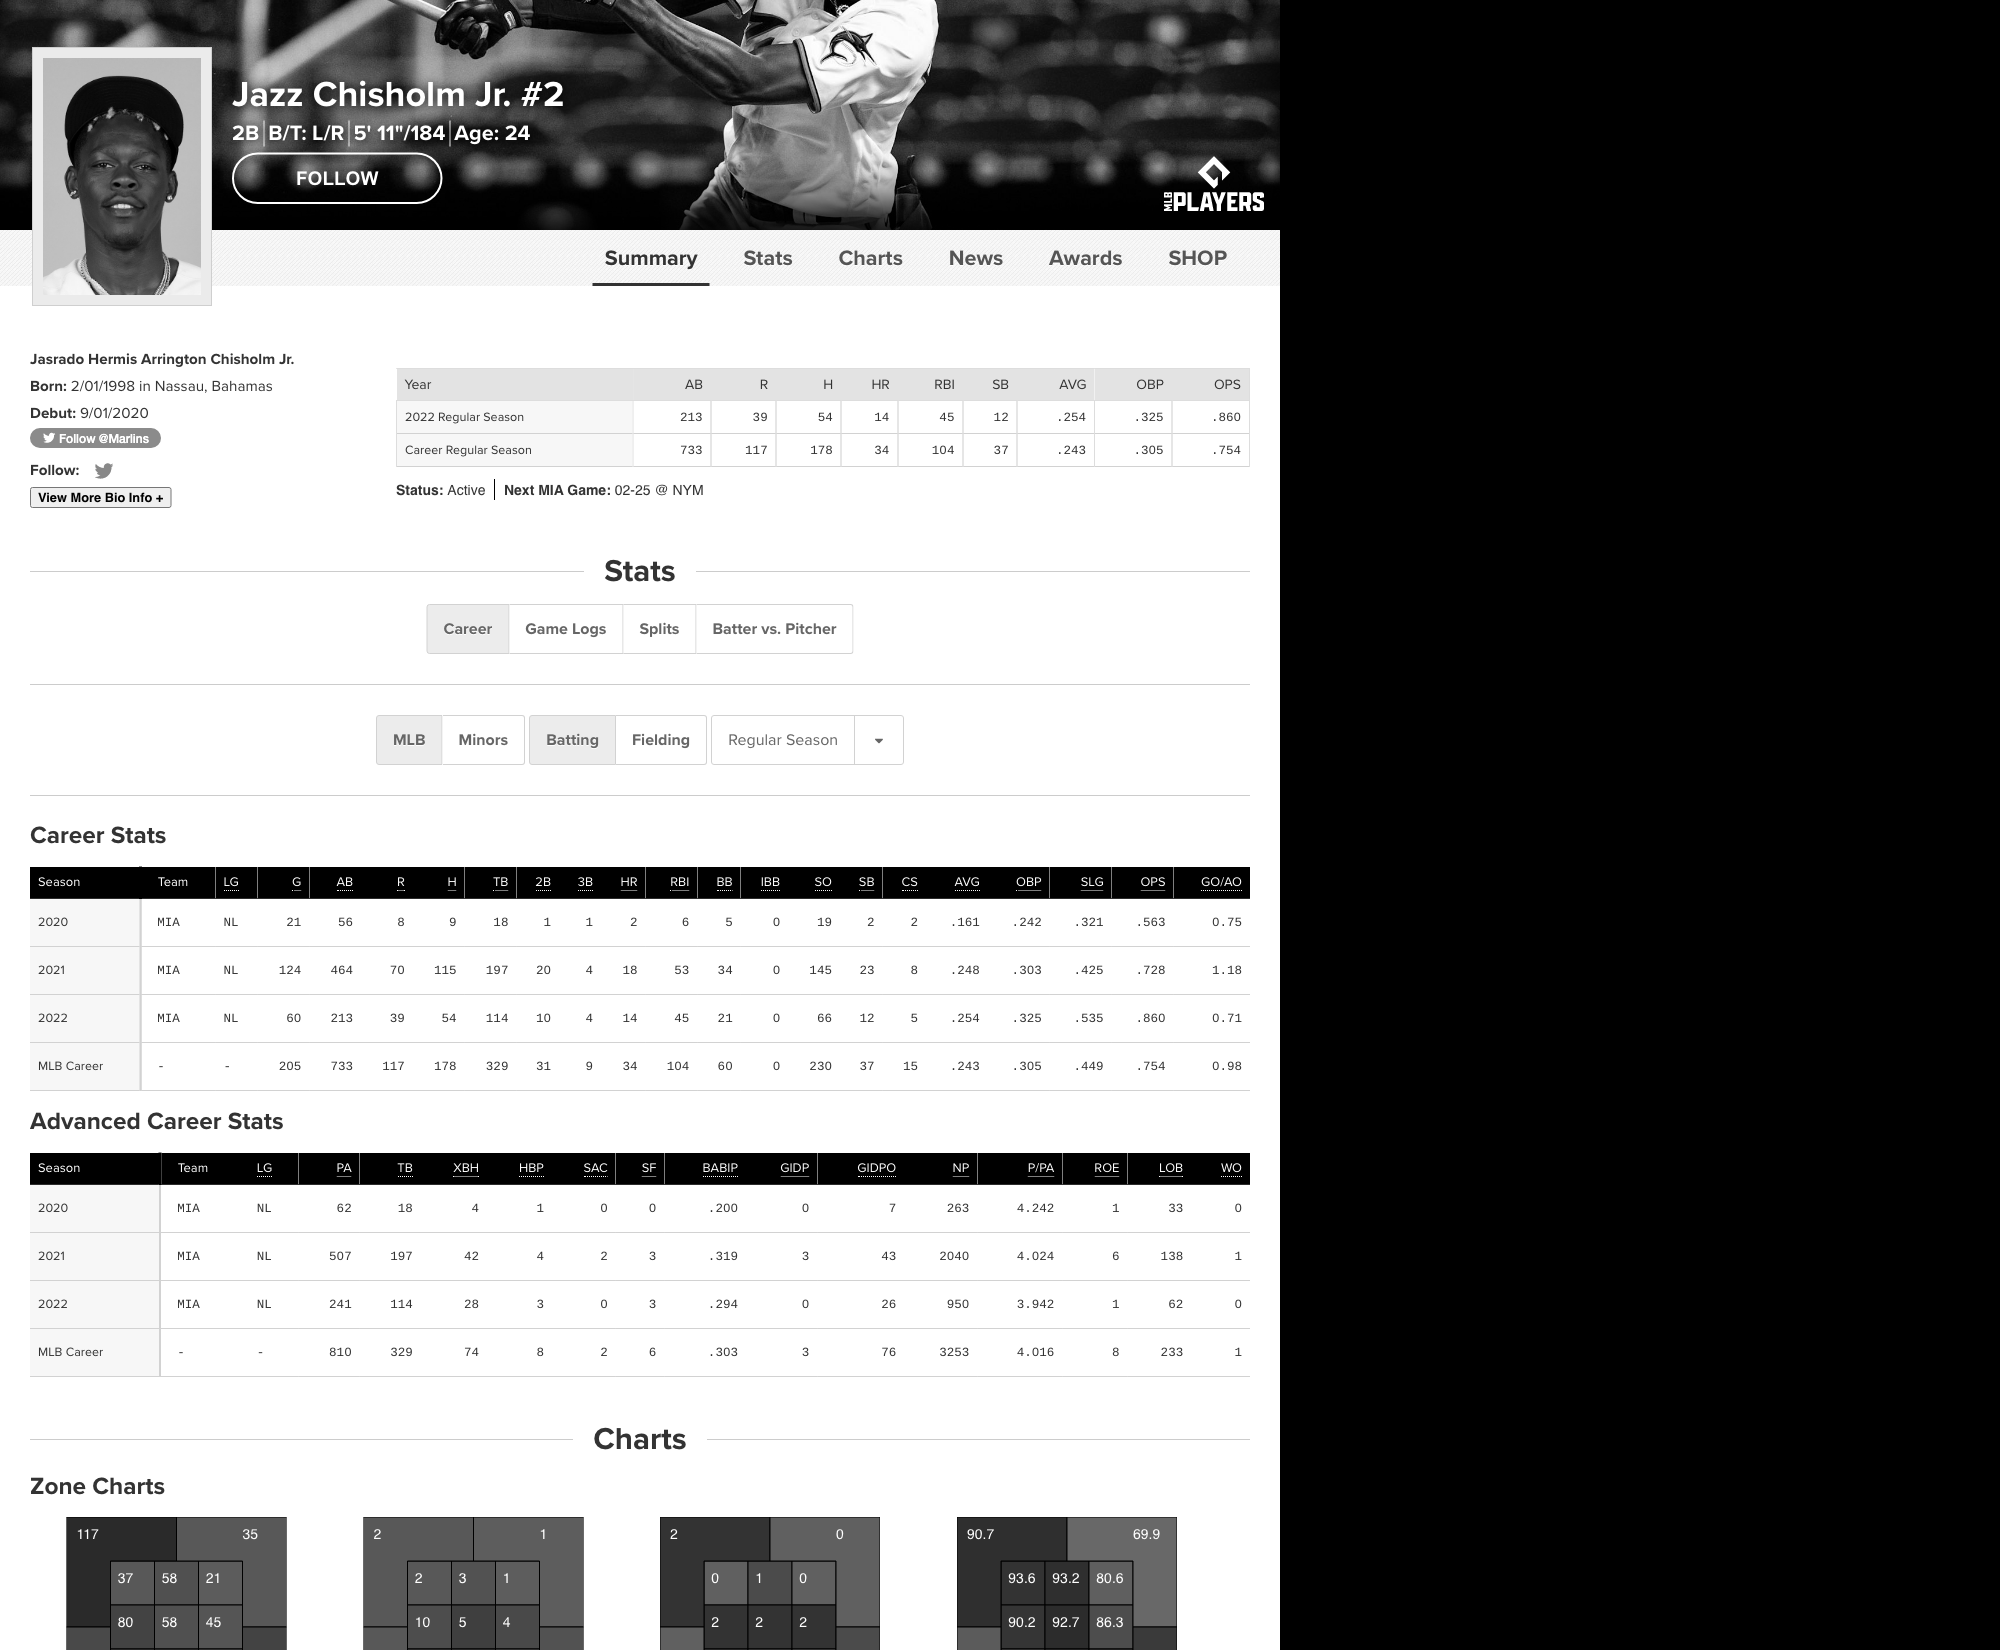text_region: (0, 0, 2000, 1650)
